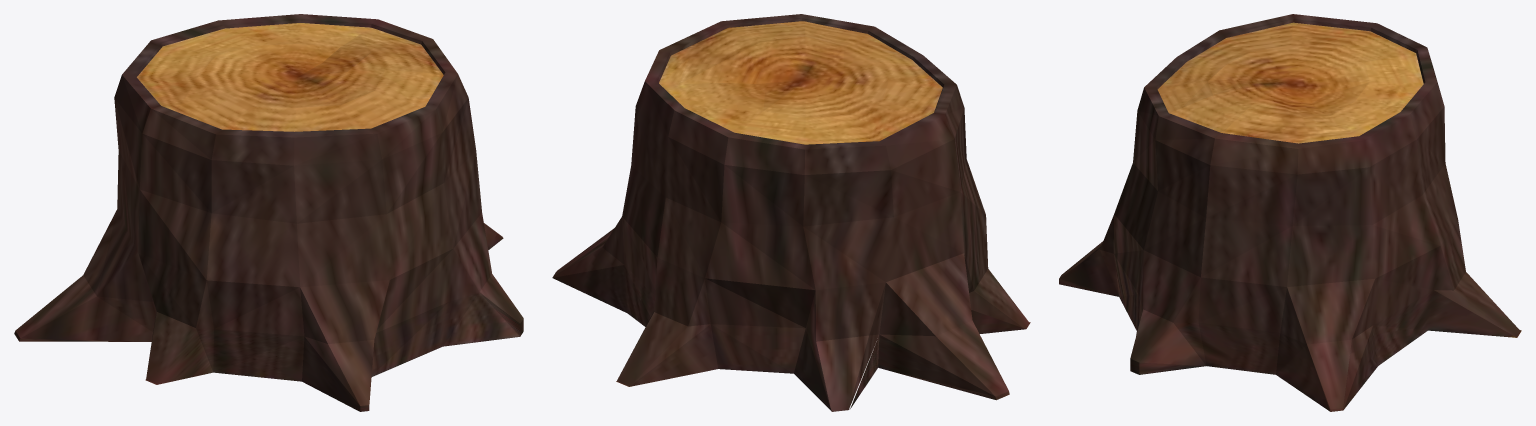
The model's file is stump.glb.
3 renders of one model, left to right at view 1: azimuth 30°, elevation 25°; view 2: azimuth 150°, elevation 25°; view 3: azimuth 270°, elevation 25°, orthographic. The views are drawn at different scales.
Parts seen in each view (by area): view 1: Node; view 2: Node; view 3: Node.
Part boxes in pixels (box(x1,y1,x2,y2)): Node: box(14, 14, 523, 411); Node: box(552, 14, 1030, 411); Node: box(1059, 14, 1521, 411).
Size of the model in its own units: 8.03 by 3.97 by 7.16.
Materials: 1 (1 with a texture image).
